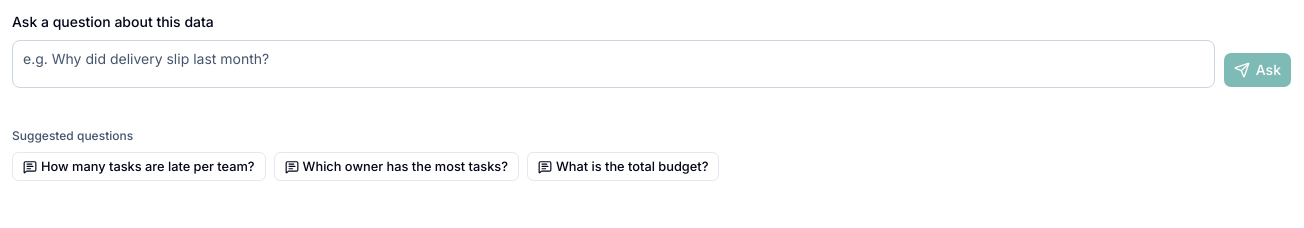
Test: QueryPanel › shows the closest-scenario notice for a free-text question
The image size is (1304, 228).
Type "late tasks by team" into the text box at [613, 64], box [12,40,1215,88]
Then press Enter
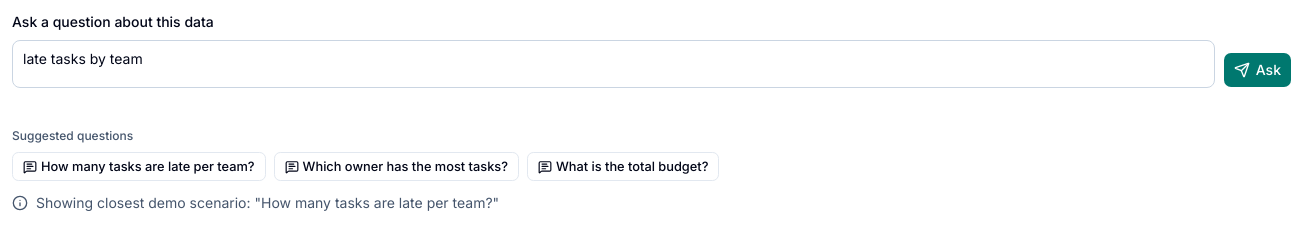
Now the text "Showing closest demo scenario" is shown, box [36,194,499,211]
